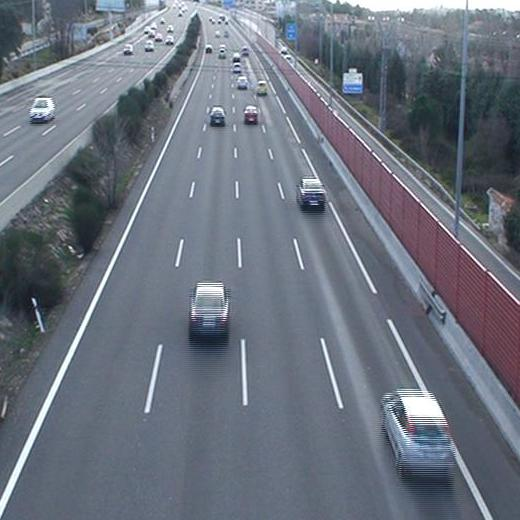car: (379, 392, 458, 482), (188, 282, 231, 337), (294, 177, 327, 210), (208, 106, 226, 126), (242, 104, 259, 124), (255, 81, 268, 95), (236, 77, 249, 90), (231, 62, 243, 73)
